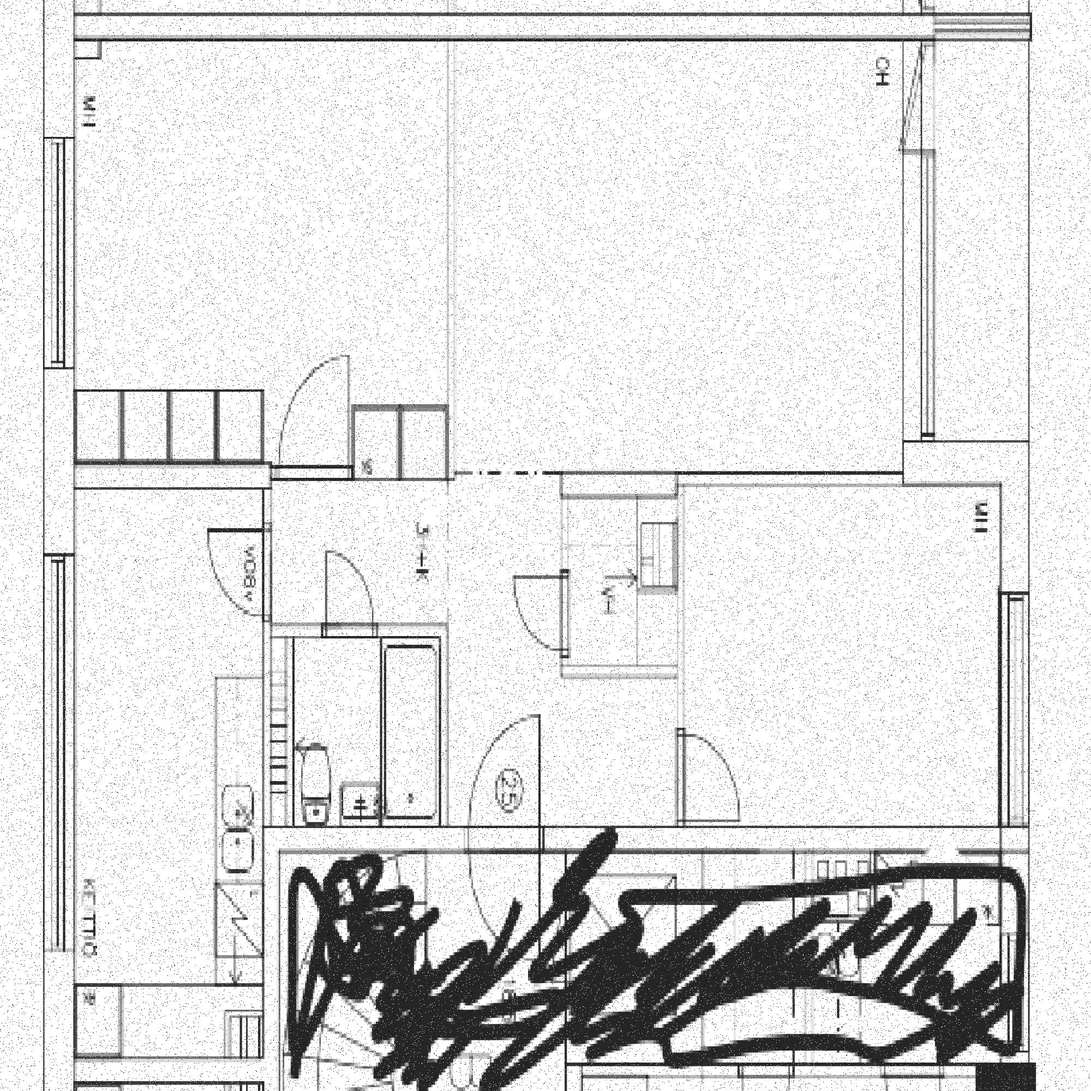wall: (45, 16, 75, 1085), (45, 16, 935, 39), (264, 828, 1028, 853), (1001, 440, 1028, 853), (920, 16, 935, 483), (46, 1060, 280, 1085), (46, 467, 271, 490), (920, 441, 1028, 483), (271, 637, 293, 828), (264, 828, 280, 1085), (1020, 15, 1029, 441), (447, 15, 455, 480), (677, 470, 685, 853), (677, 471, 920, 483), (264, 490, 271, 828), (264, 625, 449, 637), (935, 16, 1029, 38), (225, 1011, 264, 1059), (441, 625, 449, 853), (271, 467, 354, 480), (75, 35, 100, 58), (903, 441, 920, 470)
